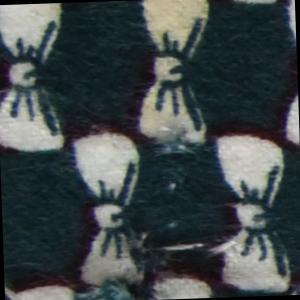Damage: (70, 231, 249, 300), (149, 126, 206, 197)
